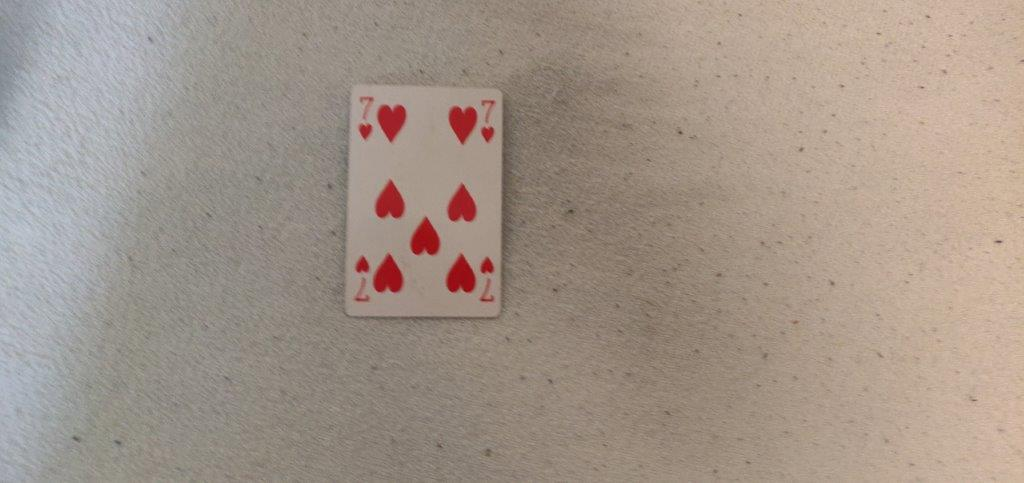7H: (355, 93, 376, 141), (480, 96, 498, 150)
